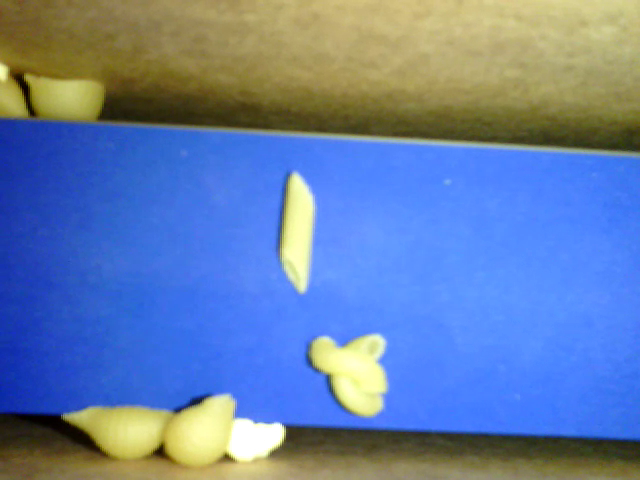elbow: (329, 331, 388, 419), (308, 336, 391, 391)
penne: (274, 172, 318, 296)
shell: (60, 403, 176, 462), (162, 392, 236, 468), (22, 73, 107, 123)
